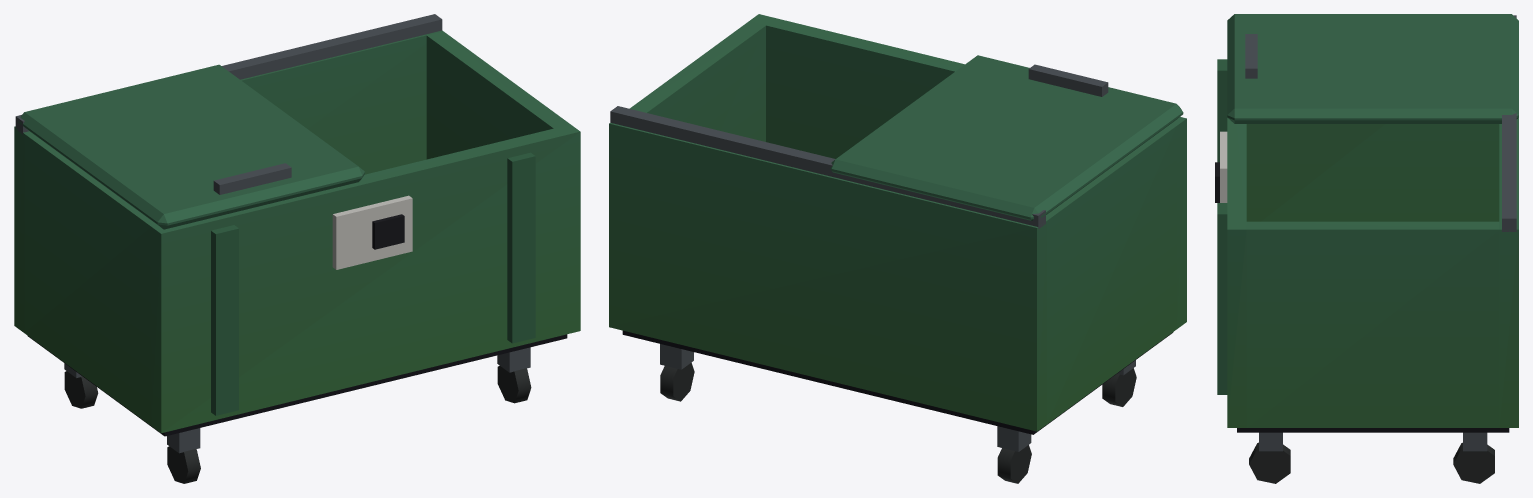
Rendered from service-dumpster.glb.
3 renders of one model, left to right at view 1: azimuth 30°, elevation 25°; view 2: azimuth 150°, elevation 25°; view 3: azimuth 270°, elevation 25°, orthographic. The views are drawn at different scales.
Parts seen in each view (by area): view 1: service_dumpster_01; view 2: service_dumpster_01; view 3: service_dumpster_01.
Boxes of the visible parts, <box> form: service_dumpster_01: <box>14,14,580,483</box>; service_dumpster_01: <box>609,14,1186,483</box>; service_dumpster_01: <box>1215,14,1518,483</box>.
Size of the model in its own units: 1.98 by 1.35 by 1.25.
